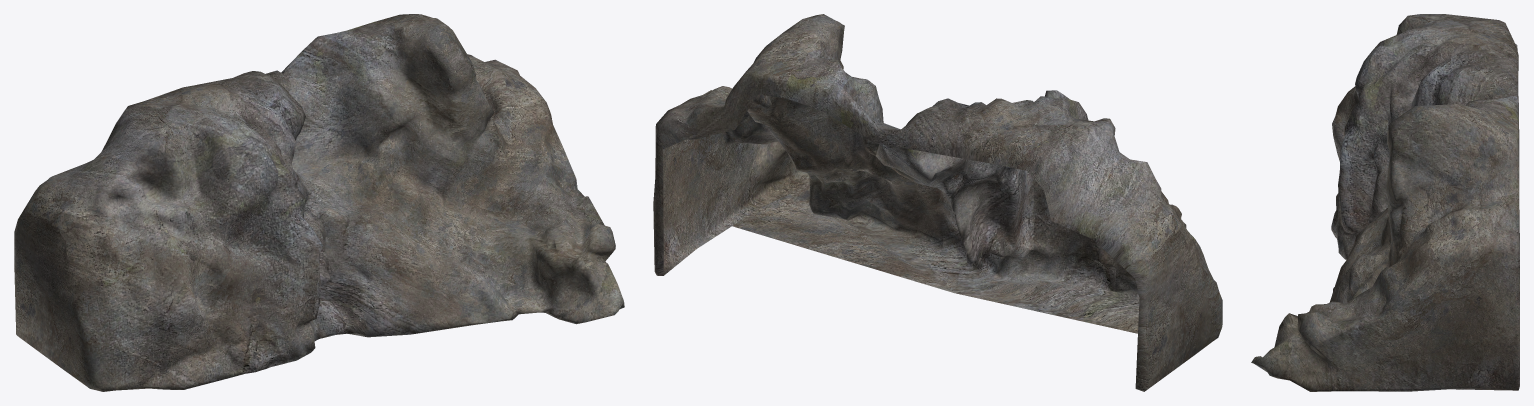
File: RockWall0.fbx
3 renders of one model, left to right at view 1: azimuth 30°, elevation 25°; view 2: azimuth 150°, elevation 25°; view 3: azimuth 270°, elevation 25°, orthographic. The views are drawn at different scales.
Visible parts, largest first — view 1: LV_Campagna_Rock_Stone01_SM_HSH.001; view 2: LV_Campagna_Rock_Stone01_SM_HSH.001; view 3: LV_Campagna_Rock_Stone01_SM_HSH.001.
Boxes of the visible parts, left/top/right/bottom form: LV_Campagna_Rock_Stone01_SM_HSH.001: left=14, top=14, right=624, bottom=391; LV_Campagna_Rock_Stone01_SM_HSH.001: left=653, top=14, right=1222, bottom=391; LV_Campagna_Rock_Stone01_SM_HSH.001: left=1251, top=14, right=1519, bottom=391.
Bounding box in the file's own units: 9.78 × 4.76 × 4.96.
1 material, 1 textured.
